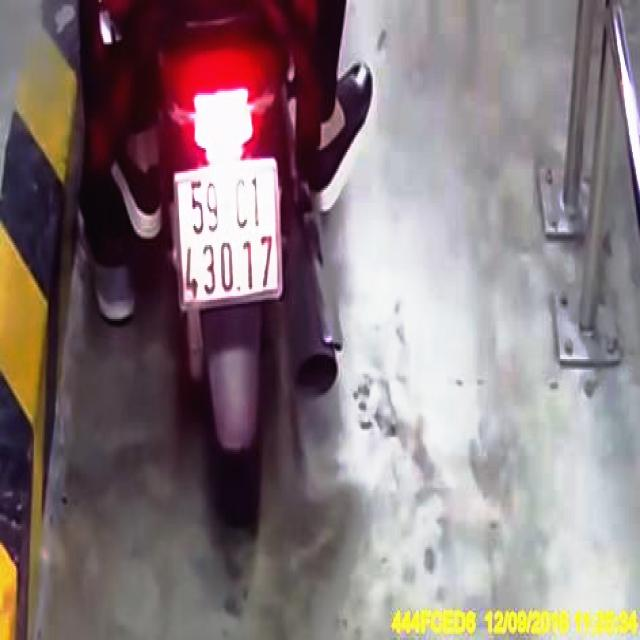license_plate: (176, 161, 281, 305)
